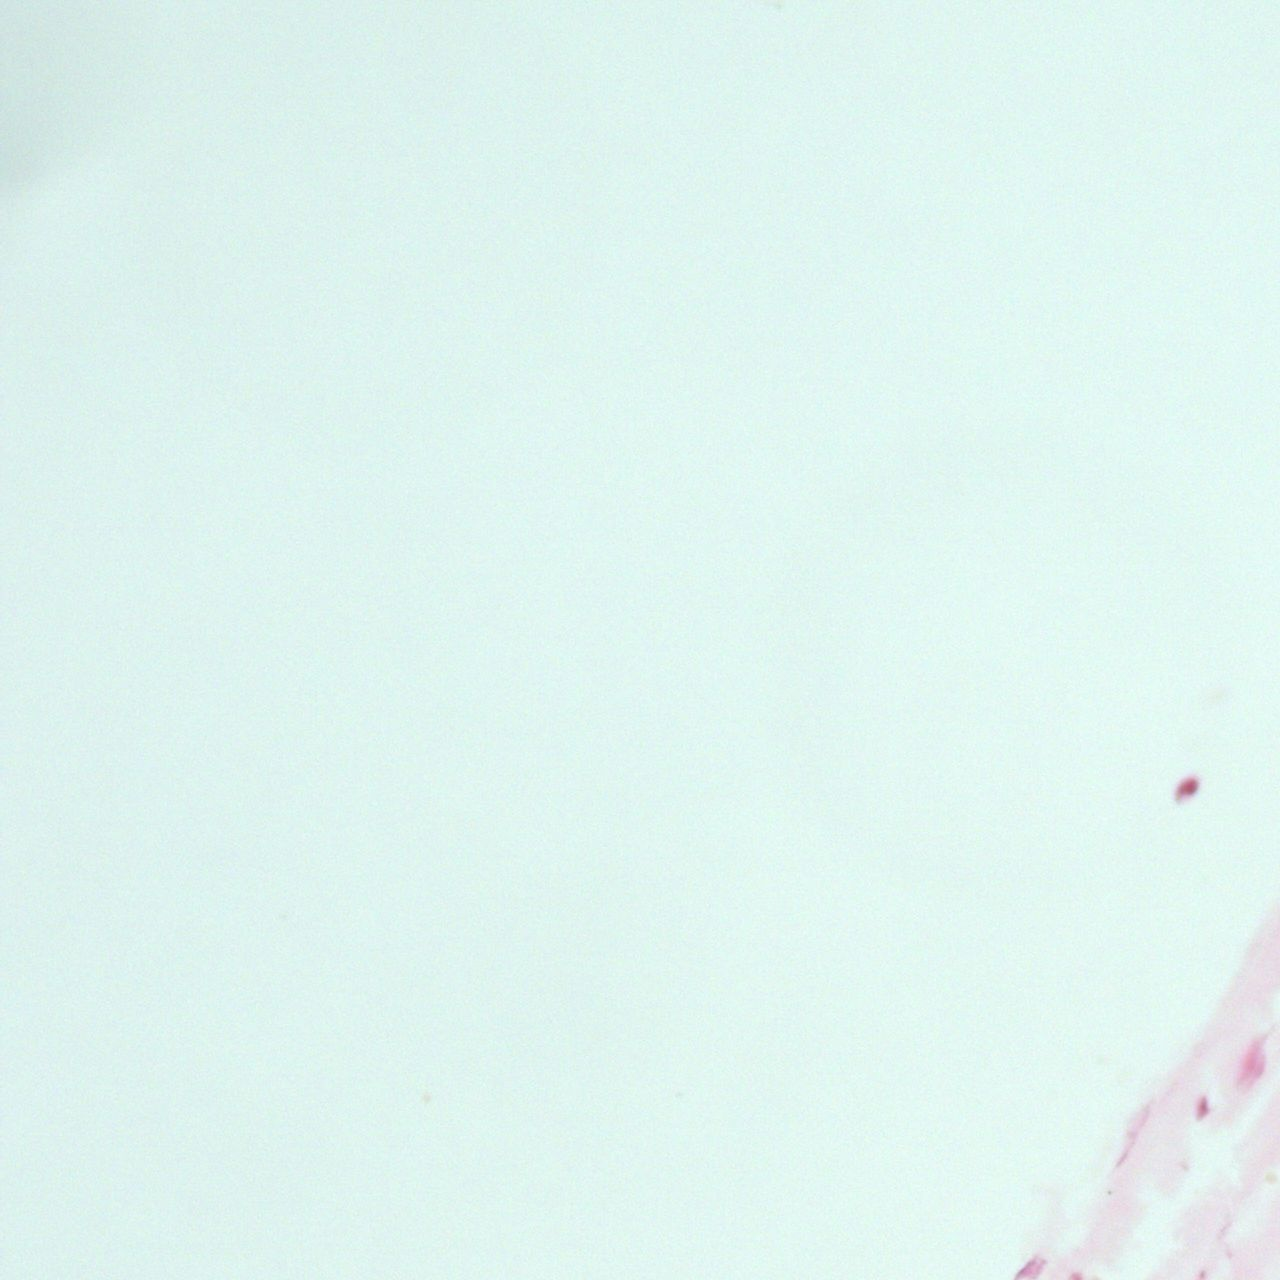dust: (1266, 1173, 1276, 1187), (1107, 1189, 1112, 1194)
nucleus-AC: (1115, 1101, 1155, 1169), (1238, 1039, 1274, 1085), (1170, 772, 1201, 806), (1194, 1095, 1210, 1119)
